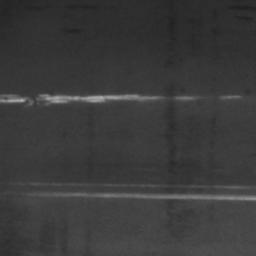Bright scratch: (29, 191, 256, 201), (36, 95, 201, 106), (0, 95, 27, 104), (220, 95, 242, 100)
